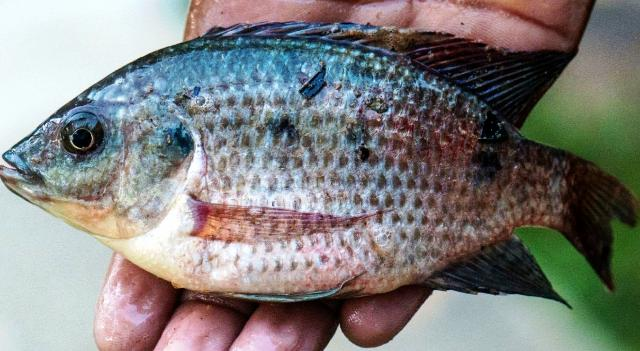Tilapia Lake Virus -TiLV-: (4, 23, 640, 306)
